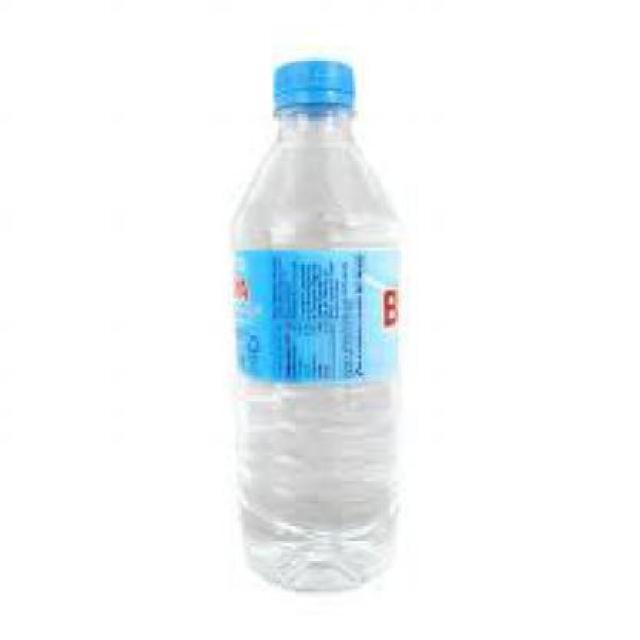plastic_bottle: (229, 59, 400, 592)
